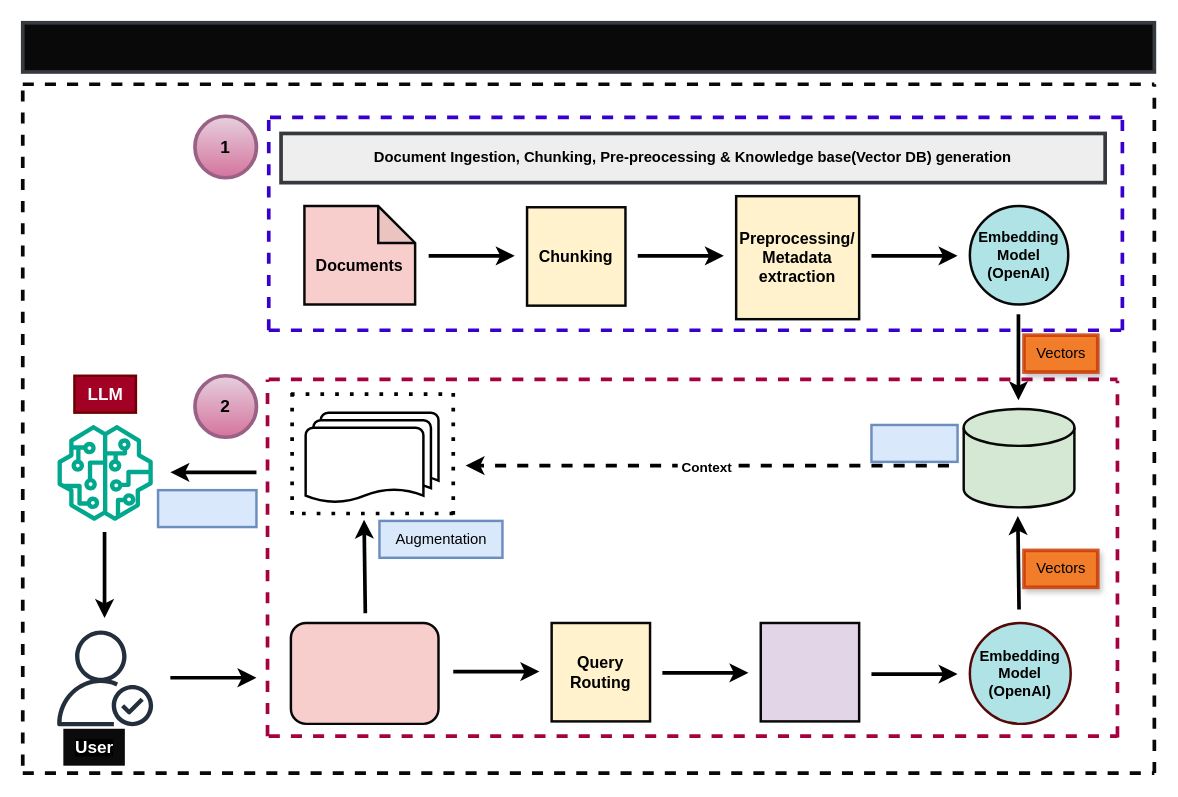
Some shapes in this 1178 by 797 pixel diagram are drawn without their labels. The centre of each missing label's shape, as x and y in pixels:
AI Agent: pixel 809 671
Generation: pixel 206 508
Query: pixel 364 672
Query + Context: pixel 371 457
Retrieval: pixel 914 442
Self Healing Architecture: pixel 588 46
VectorDB (LanceDB): pixel 1018 457
